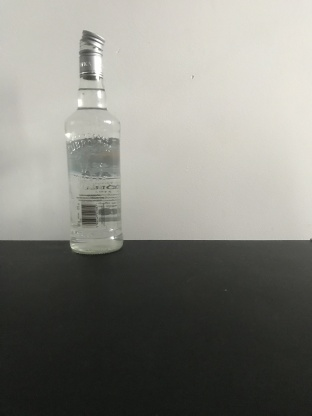nakretka: (77, 27, 106, 80)
